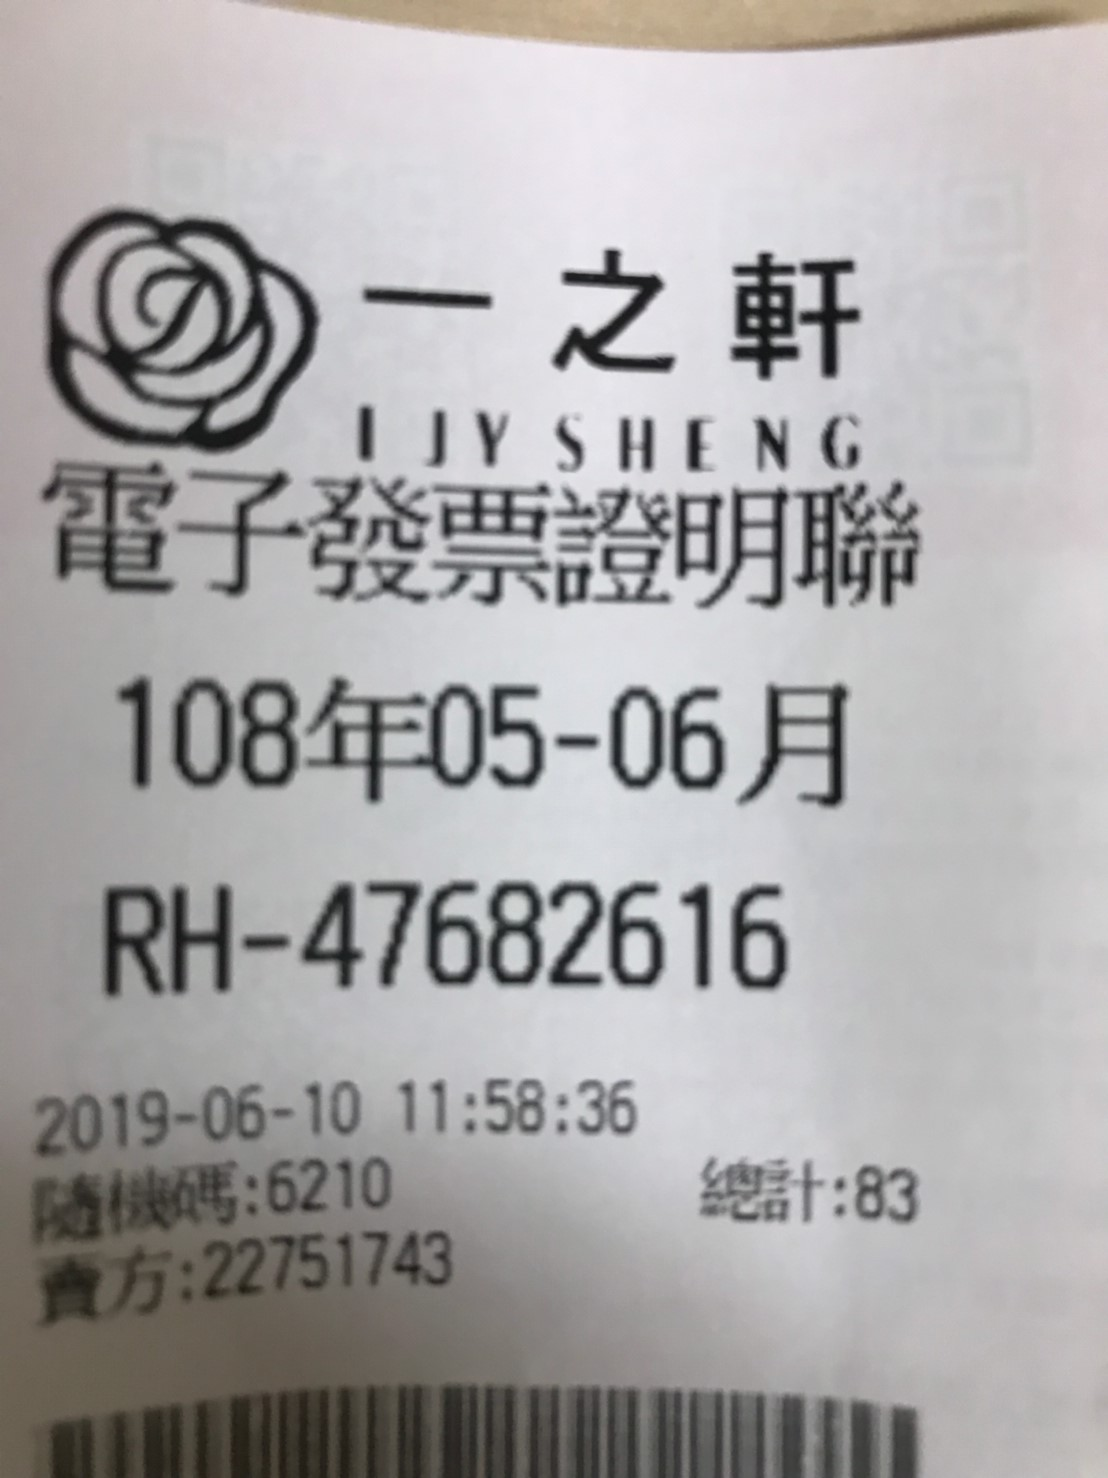Date_New: (109, 661, 859, 812)
Number_New: (300, 882, 794, 999)
